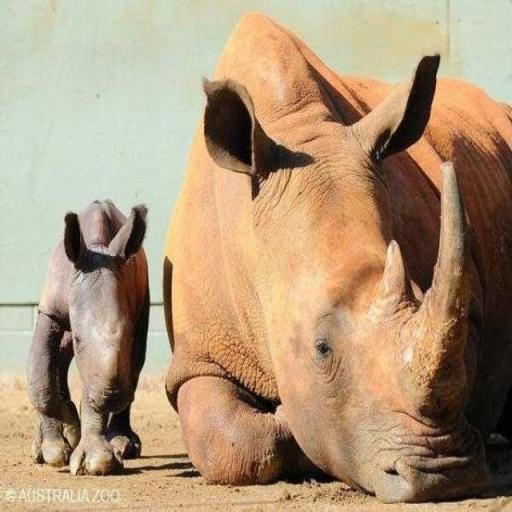Rhino: (161, 10, 510, 503), (26, 197, 150, 476)
